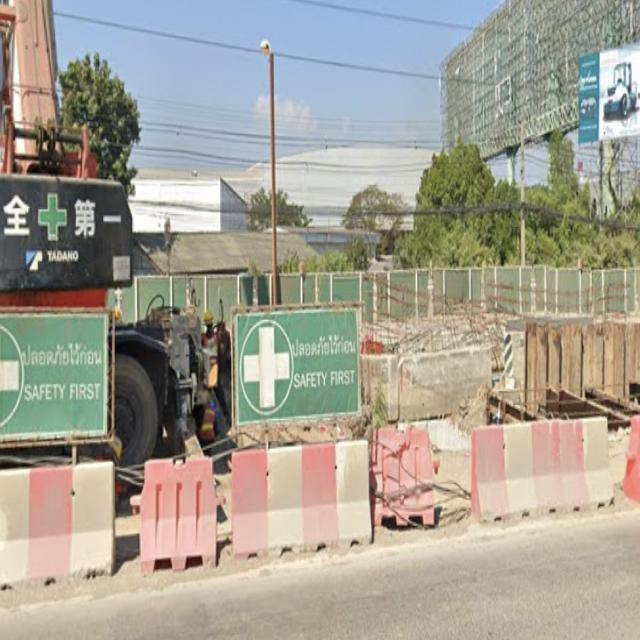fallen_object: (220, 445, 394, 561), (449, 409, 618, 523), (0, 465, 128, 585), (129, 430, 227, 574), (356, 419, 460, 539)
